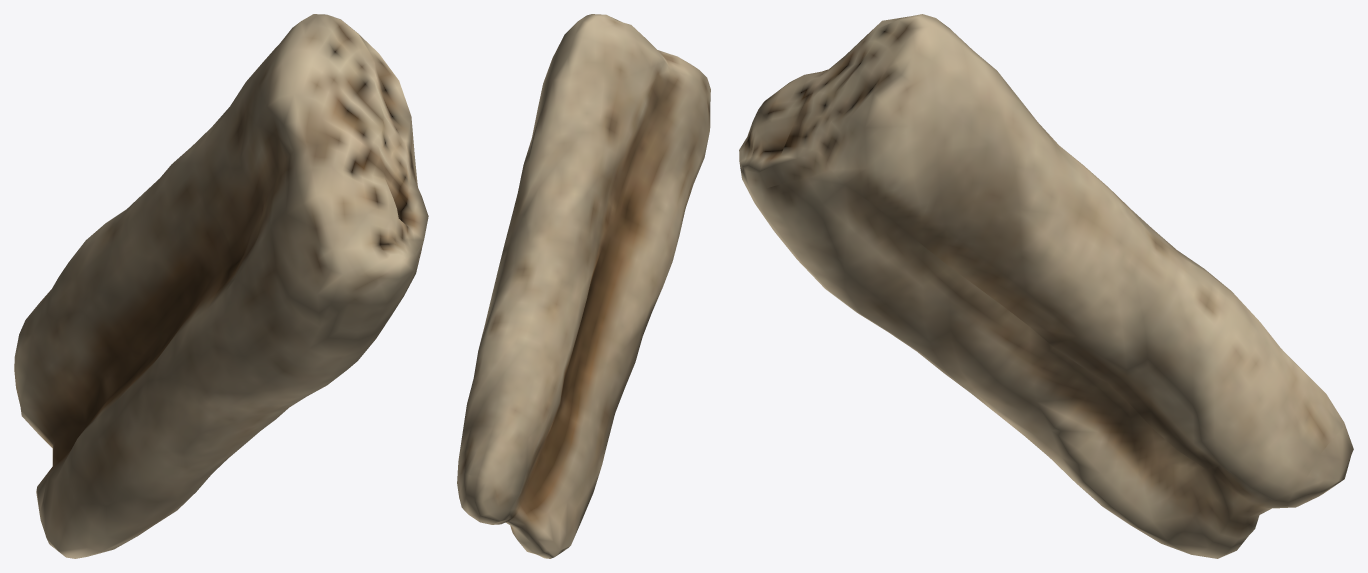
Rendered from Mandibular_Premolar5.glb.
3 views of the same model, side by side, from view 1: azimuth 30°, elevation 25°; view 2: azimuth 150°, elevation 25°; view 3: azimuth 270°, elevation 25° (orthographic). The views are drawn at different scales.
Visible parts, largest first — view 1: Mandibular_Premolar5.glb; view 2: Mandibular_Premolar5.glb; view 3: Mandibular_Premolar5.glb.
Part boxes in pixels (x1,y1,x2,y2): Mandibular_Premolar5.glb: (14, 14, 428, 558); Mandibular_Premolar5.glb: (457, 14, 710, 558); Mandibular_Premolar5.glb: (739, 14, 1353, 558).
Size of the model in its own units: 0.0184 by 0.0598 by 0.0575.
1 material, 1 textured.
